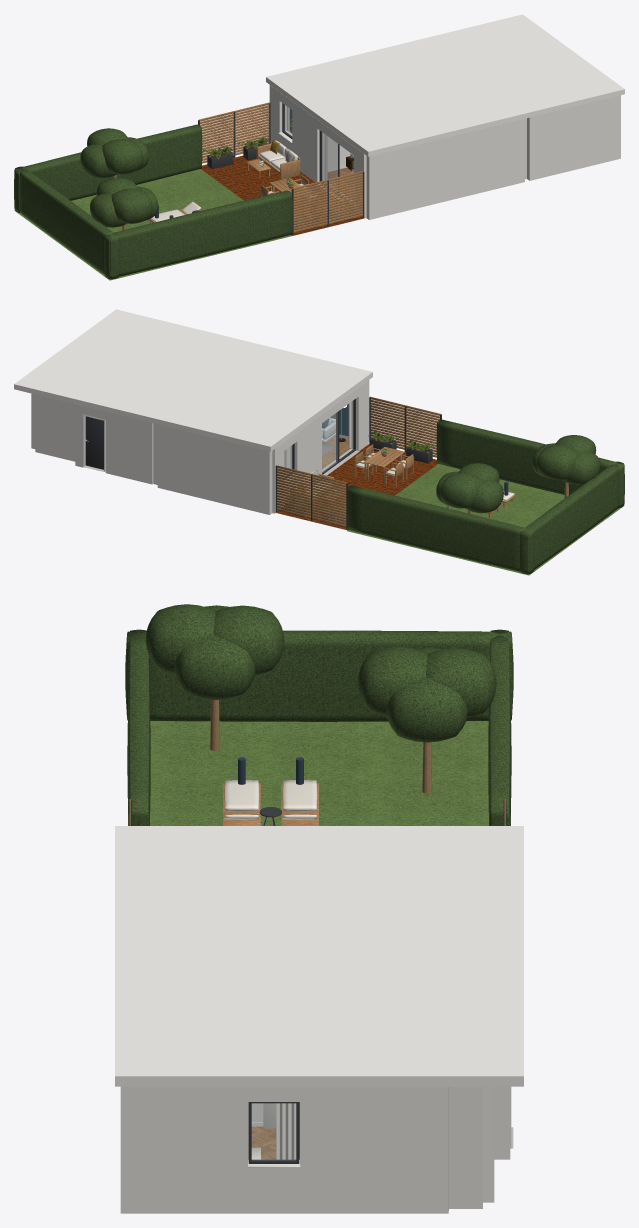
The model's file is lot_atlantique.glb.
3 views of the same model, one above another, from view 1: azimuth 30°, elevation 25°; view 2: azimuth 150°, elevation 25°; view 3: azimuth 270°, elevation 25° (orthographic). The views are drawn at different scales.
Visible parts, largest first — view 1: m_Plafond, m_Haie, m_Enduit de facade, m_Teck, m_Pelouse, m_Sol de terrasse, m_Alu anthracite, m_Verre, m_Toile ivoire, m_Enduit blanc; view 2: m_Plafond, m_Haie, m_Enduit de facade, m_Teck, m_Pelouse, m_Sol de terrasse, m_Alu anthracite, m_Verre, m_Porte paliere, m_Sol sejour; view 3: m_Plafond, m_Enduit de facade, m_Haie, m_Pelouse, m_Verre, m_Toile ivoire, m_Rideau, m_Alu anthracite, m_Teck, m_Chene.
Boxes of the visible parts, x1,y1,x2,y2 form: m_Plafond: (266, 14, 624, 156); m_Haie: (14, 124, 292, 279); m_Enduit de facade: (269, 85, 620, 219); m_Teck: (149, 102, 363, 232); m_Pelouse: (14, 169, 291, 280); m_Sol de terrasse: (201, 155, 364, 235); m_Alu anthracite: (192, 103, 364, 235); m_Verre: (284, 105, 337, 180); m_Toile ivoire: (150, 140, 316, 222); m_Enduit blanc: (280, 131, 350, 169); m_Plafond: (14, 309, 372, 451); m_Haie: (346, 419, 624, 574); m_Enduit de facade: (31, 380, 369, 514); m_Teck: (276, 396, 515, 526); m_Pelouse: (347, 464, 624, 575); m_Sol de terrasse: (275, 443, 437, 530); m_Alu anthracite: (275, 397, 441, 529); m_Verre: (284, 412, 337, 472); m_Porte paliere: (85, 416, 103, 469); m_Sol sejour: (322, 436, 350, 469); m_Plafond: (115, 826, 523, 1086); m_Enduit de facade: (120, 1086, 510, 1213); m_Haie: (125, 604, 513, 825); m_Pelouse: (128, 721, 510, 825); m_Verre: (252, 1103, 295, 1159); m_Toile ivoire: (224, 780, 317, 819); m_Rideau: (248, 1102, 299, 1159); m_Alu anthracite: (128, 799, 506, 1163); m_Teck: (129, 783, 505, 825); m_Chene: (210, 700, 432, 793).
Size of the model in its own units: 21.22 by 2.81 by 7.33.
80 materials, 44 textured.
